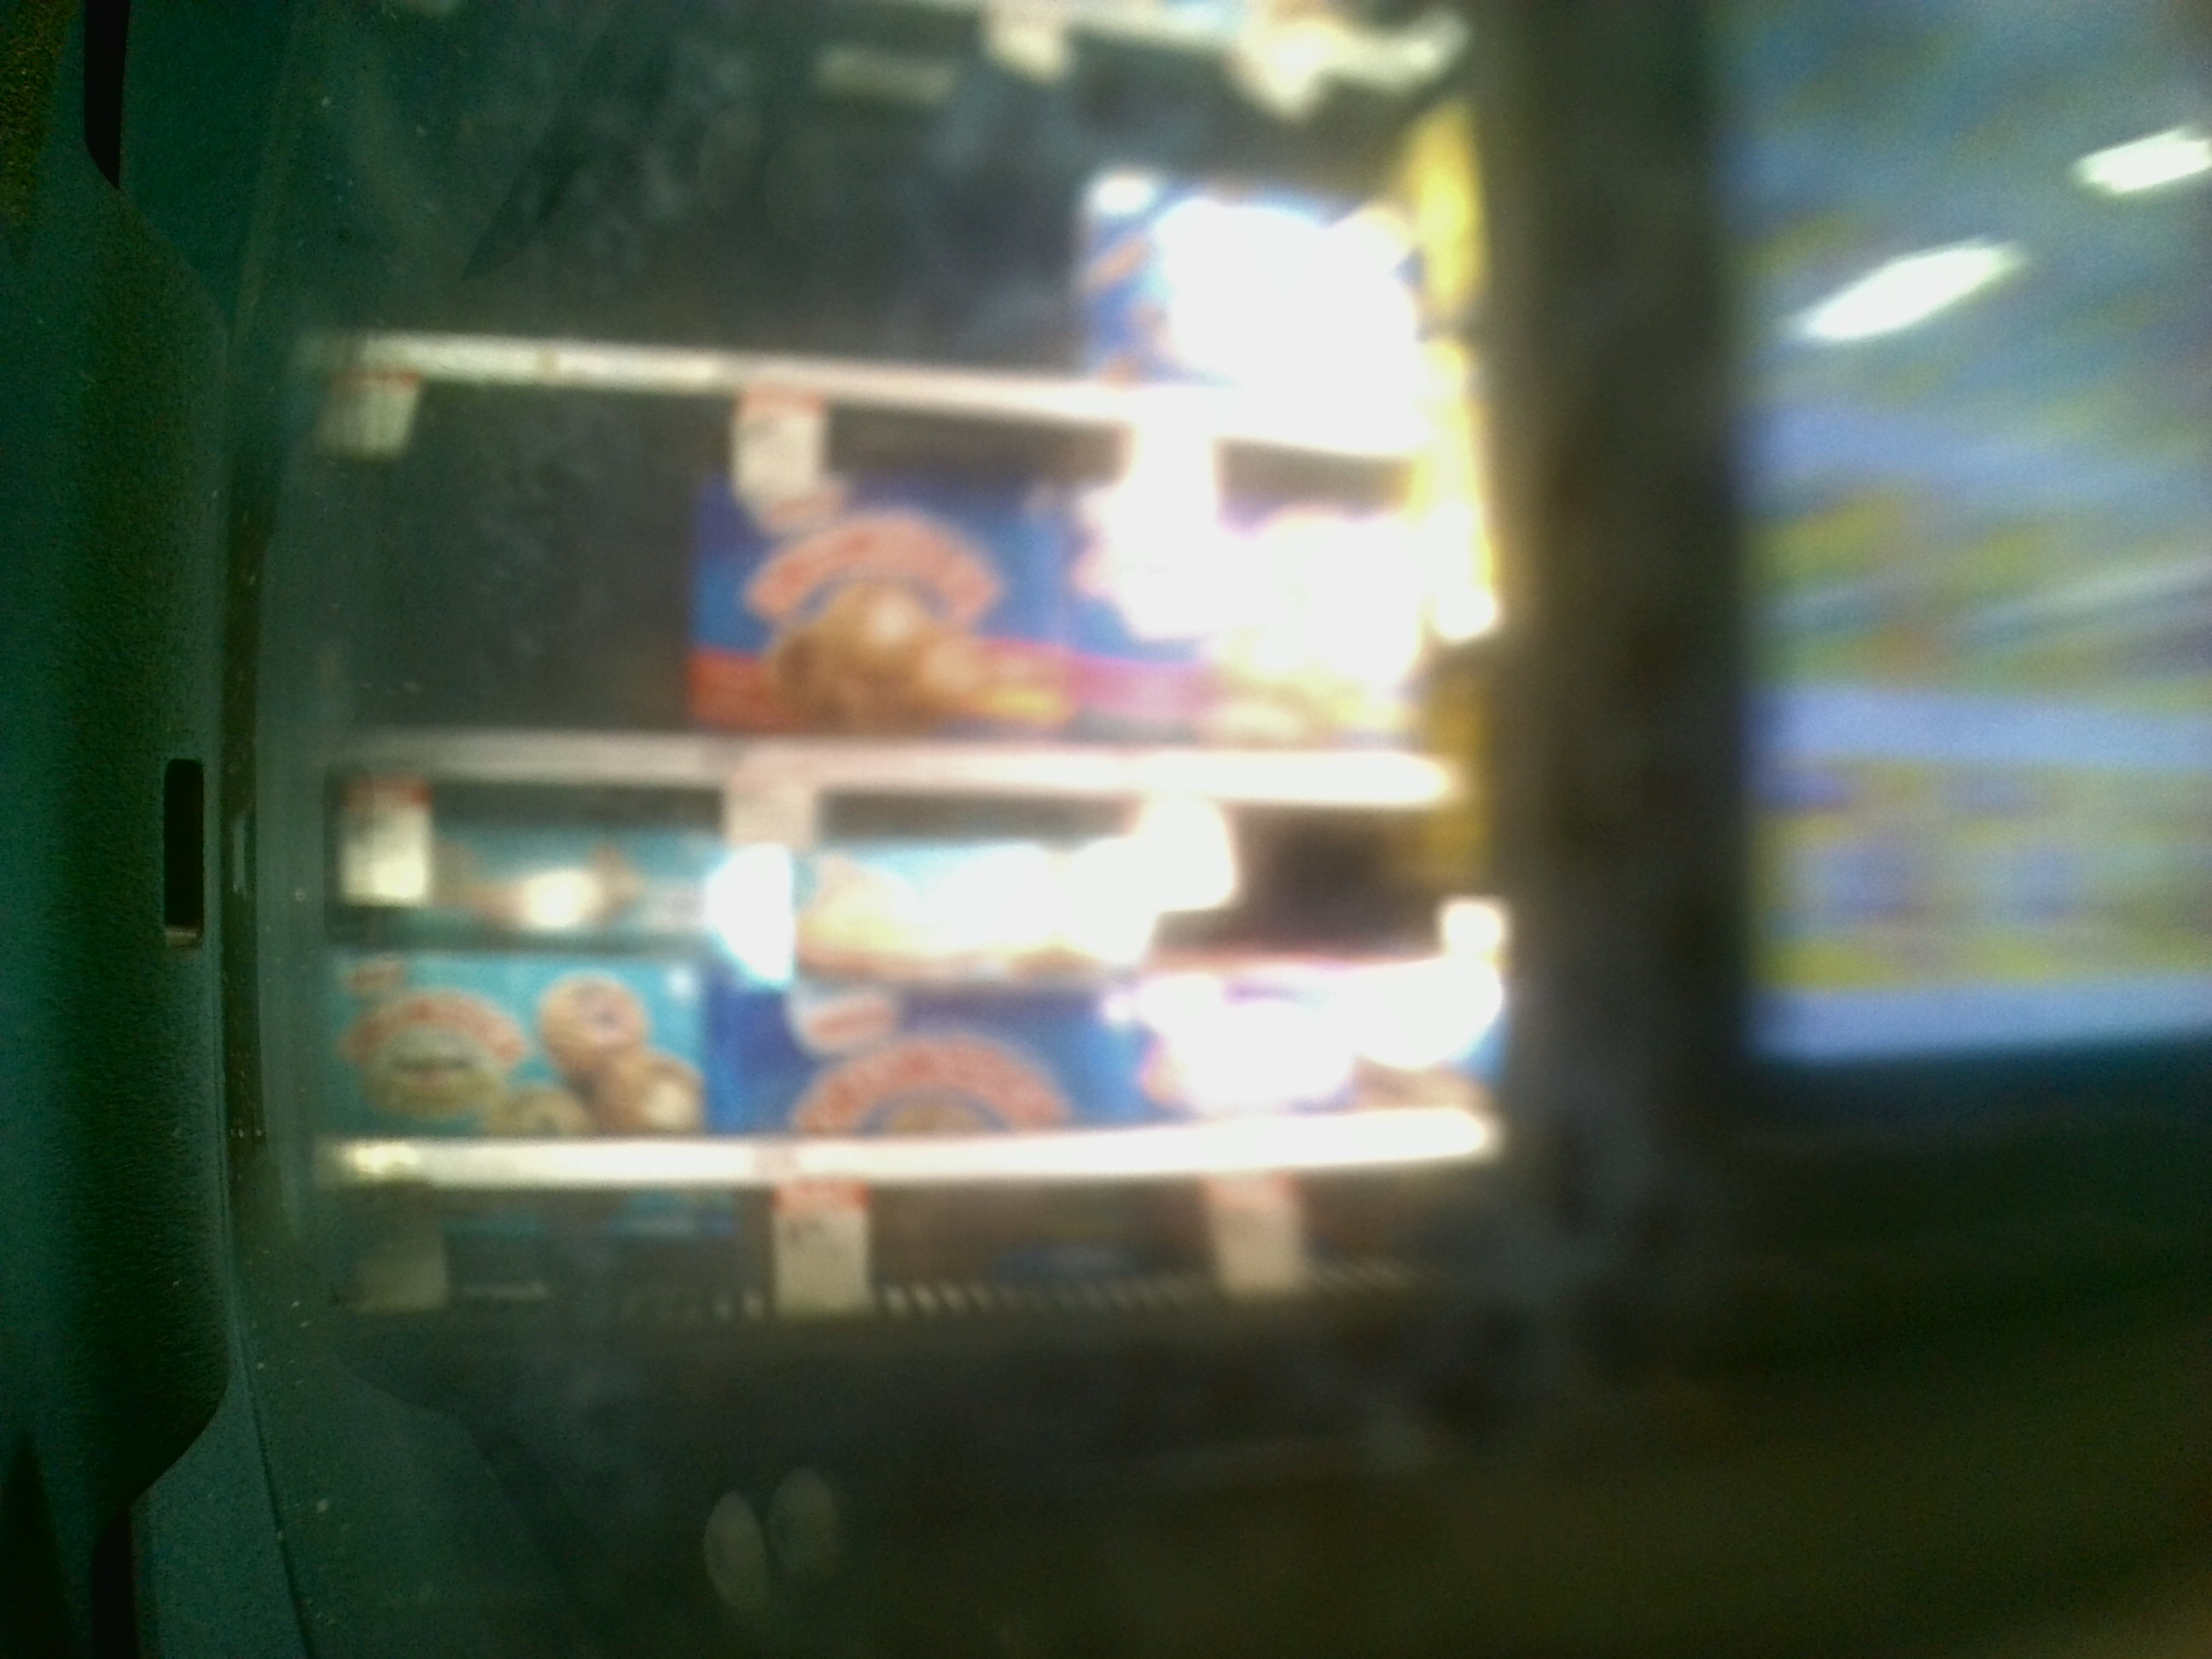shelf: (301, 777, 1526, 1293), (307, 364, 1484, 798)
